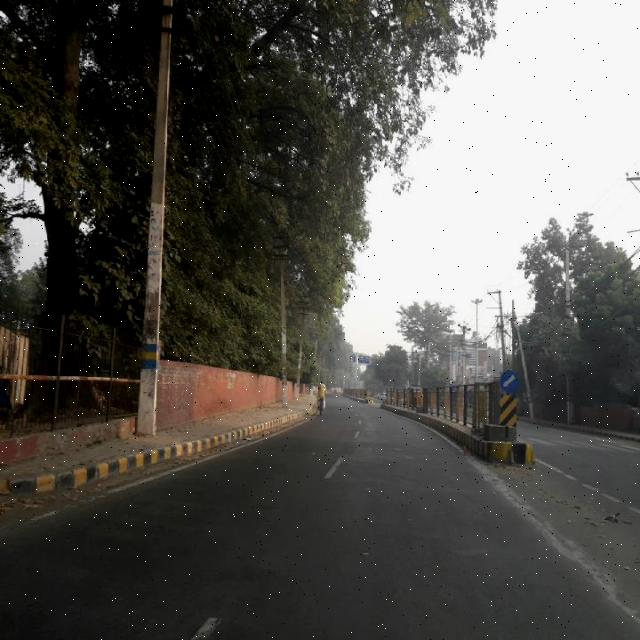D44: (2, 496, 108, 530)
